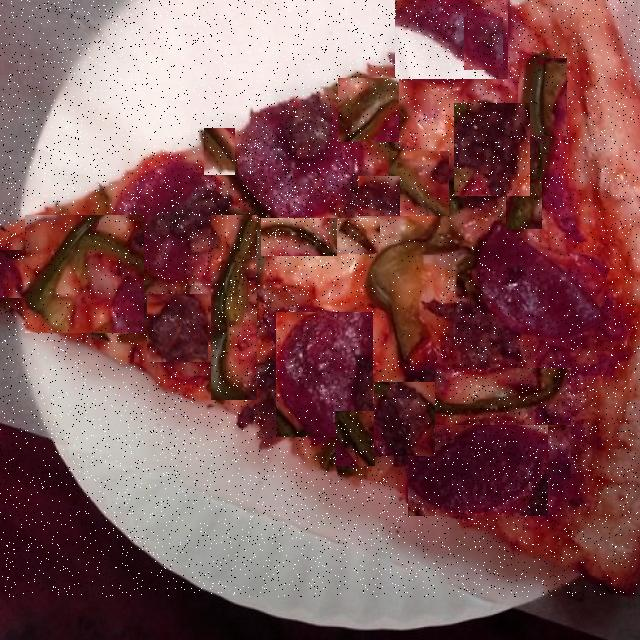Beef: (454, 103, 530, 196), (374, 382, 435, 456), (148, 294, 210, 362), (464, 18, 503, 72), (358, 176, 400, 216)
Green Pepper: (25, 215, 144, 333), (211, 215, 257, 400), (424, 368, 571, 425), (375, 245, 435, 358), (338, 78, 399, 142), (389, 151, 449, 216), (518, 58, 567, 136), (400, 208, 472, 255), (261, 218, 337, 256), (335, 411, 375, 466), (506, 179, 542, 229), (337, 218, 380, 254), (204, 128, 235, 175)
Pepperoni: (484, 222, 602, 339), (408, 421, 548, 516), (243, 111, 362, 218), (276, 312, 373, 437), (123, 177, 213, 280), (395, 0, 508, 79), (0, 250, 25, 298)
Pizza: (0, 0, 640, 597)
